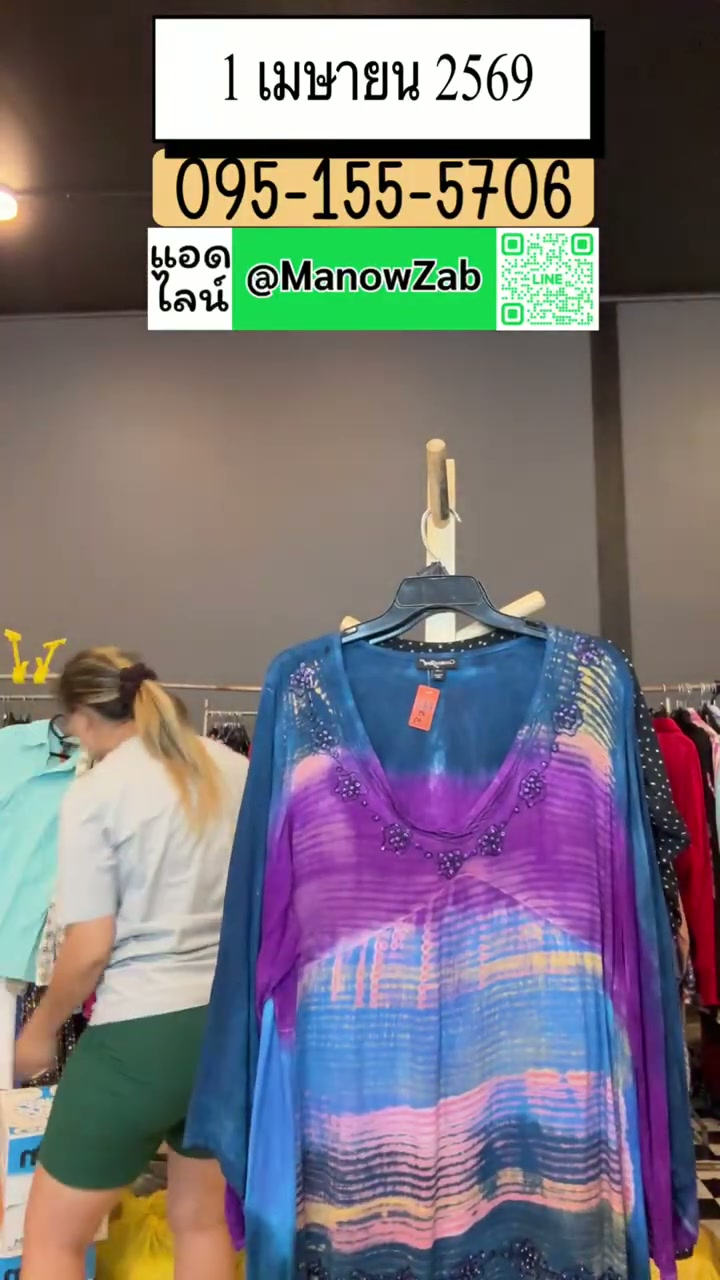display_shirt: (191, 624, 697, 1279)
